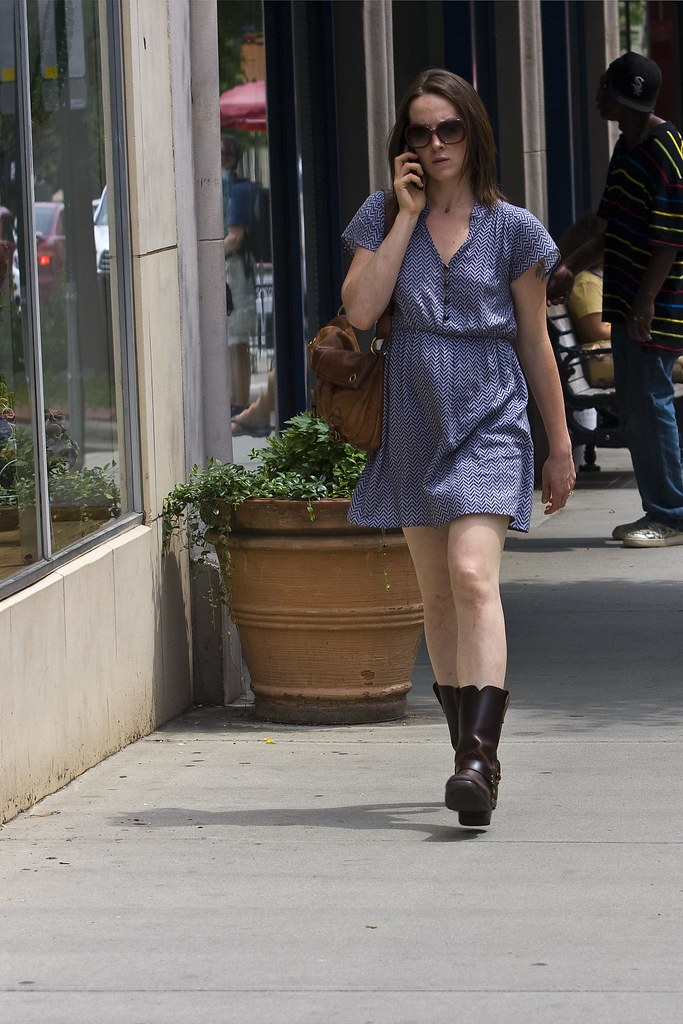phone: (382, 143, 429, 209)
talk: (367, 111, 471, 219)
